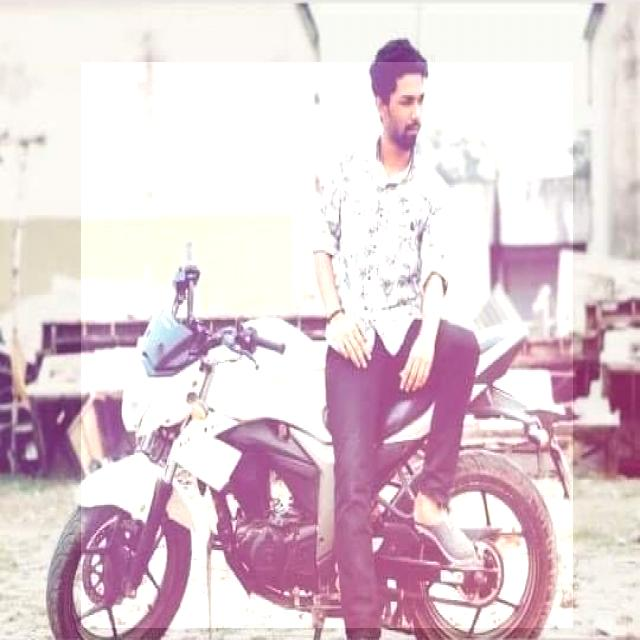Bike: (81, 62, 573, 628)
